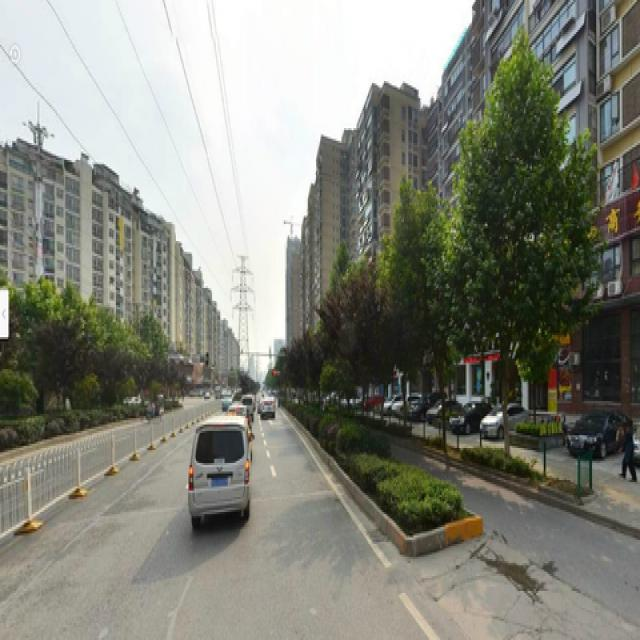meta: (455, 47, 589, 459)
